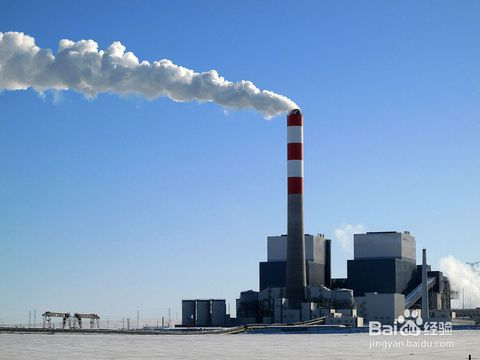dust: (3, 24, 308, 121)
